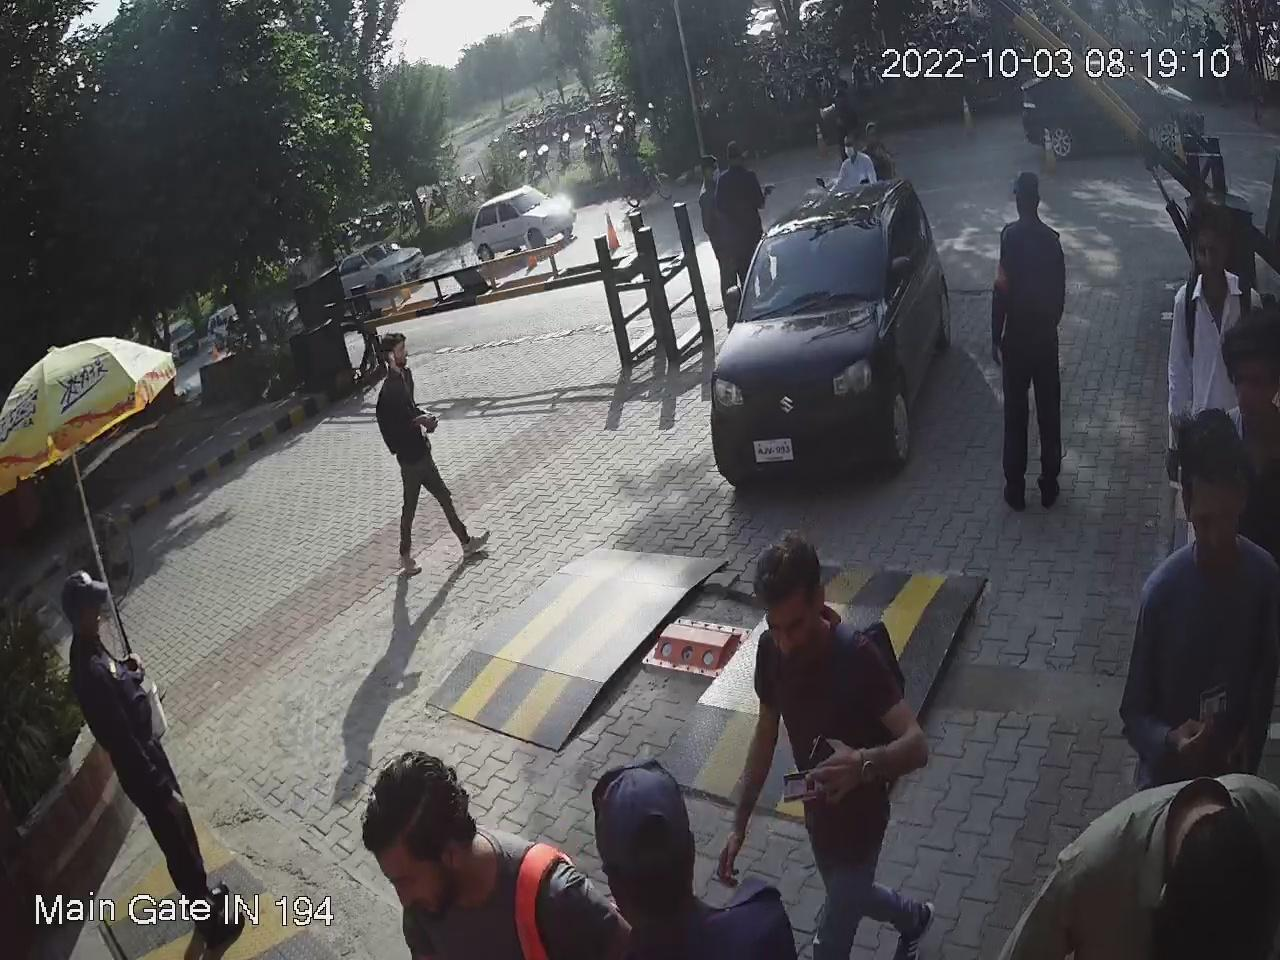windshield: (738, 210, 888, 330)
